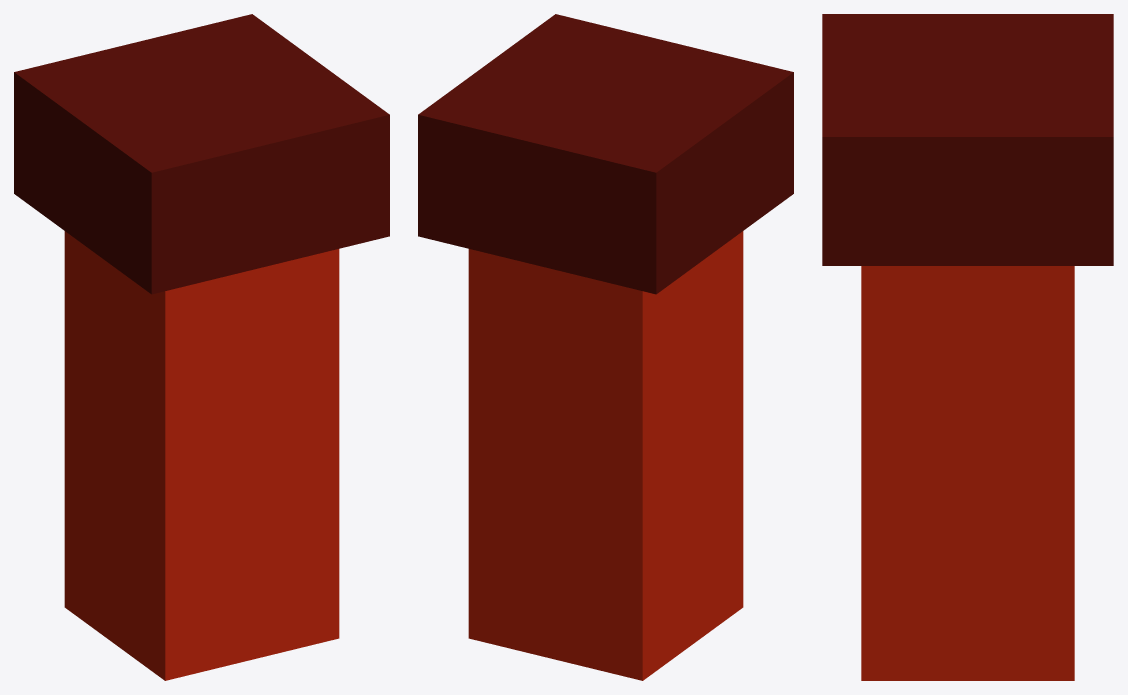
File: Chimney1_House.fbx
3 views of the same model, side by side, from view 1: azimuth 30°, elevation 25°; view 2: azimuth 150°, elevation 25°; view 3: azimuth 270°, elevation 25° (orthographic). The views are drawn at different scales.
Parts seen in each view (by area): view 1: Mesh (2); view 2: Mesh (2); view 3: Mesh (2).
Boxes of the visible parts, x1,y1,x2,y2 form: Mesh (2): [14, 14, 389, 680]; Mesh (2): [418, 14, 793, 680]; Mesh (2): [822, 14, 1113, 680].
Size of the model in its own units: 77.83 by 165 by 77.84.
